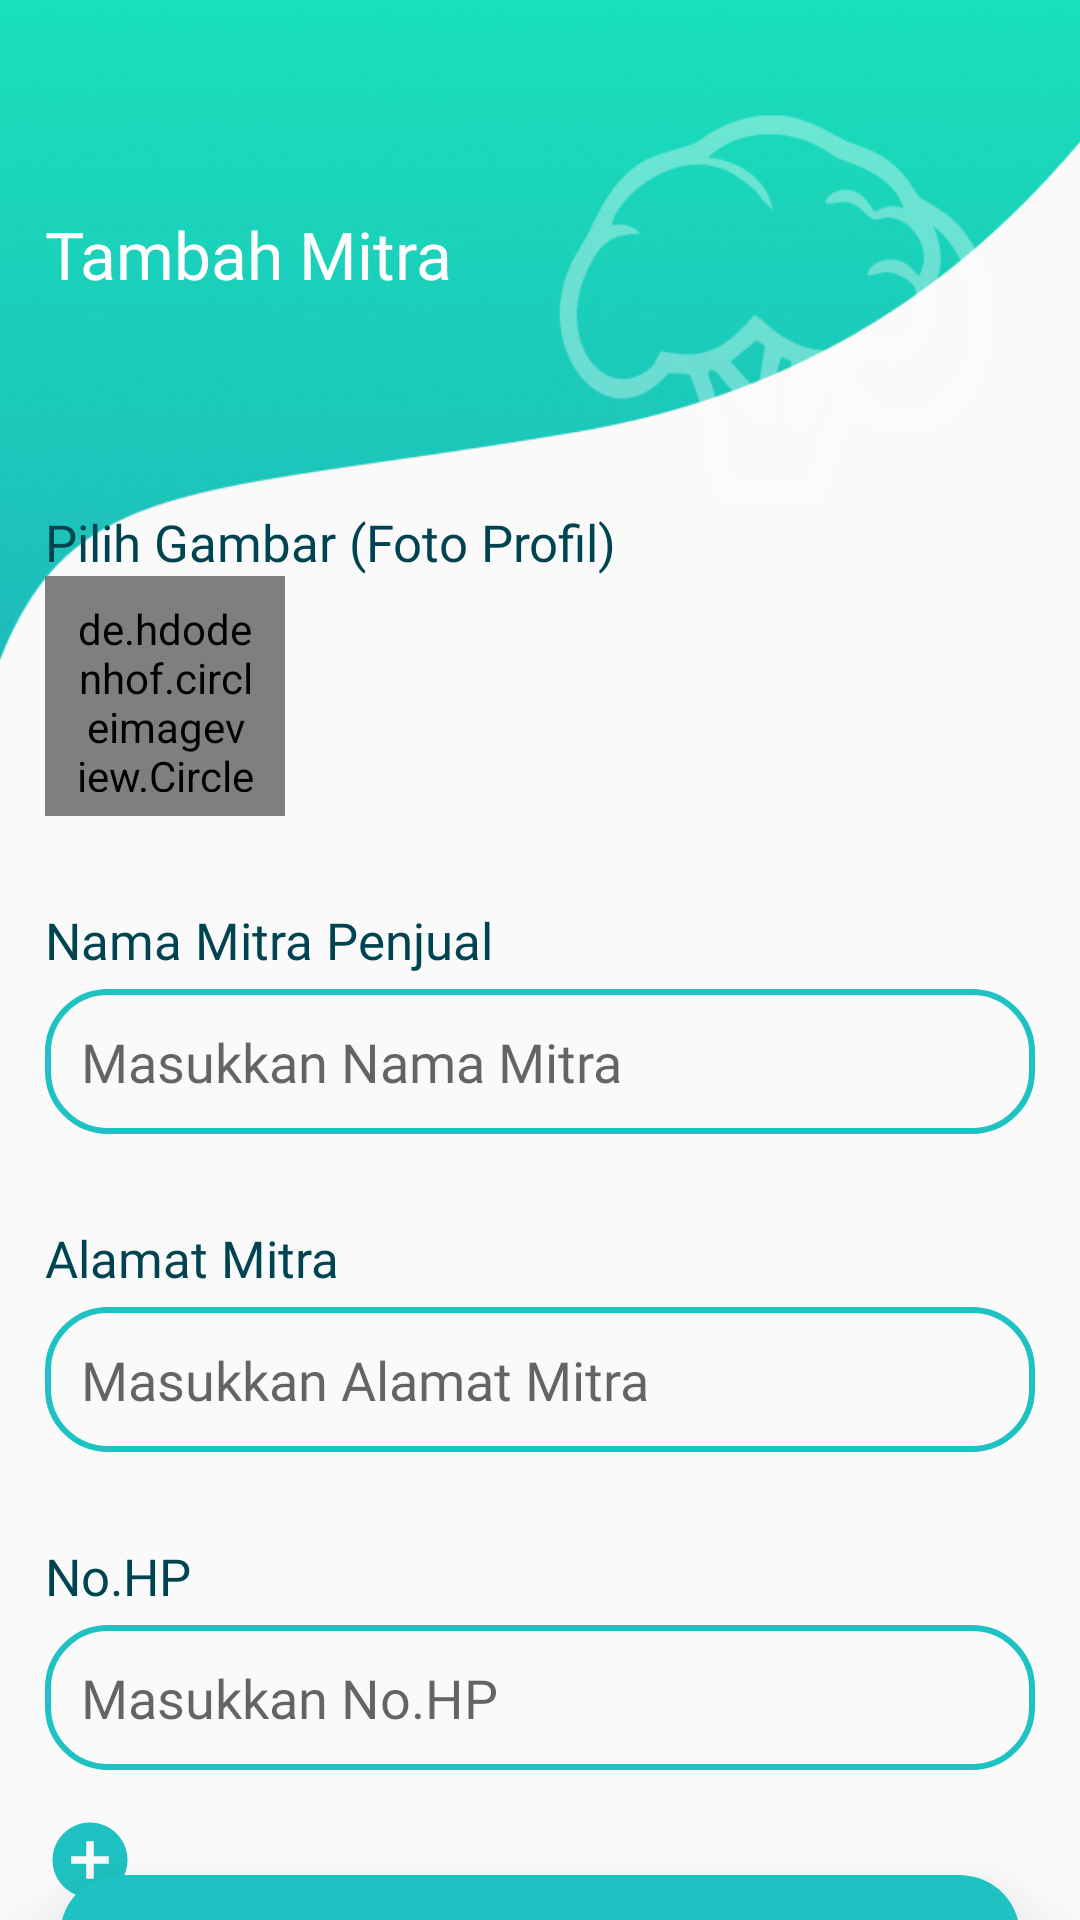

Locate icon controls on the screen. Image size 1080px×1920px, boxes as bbox=(x1, y1, x2, y2).
add: bbox=(52, 1822, 135, 1905)
